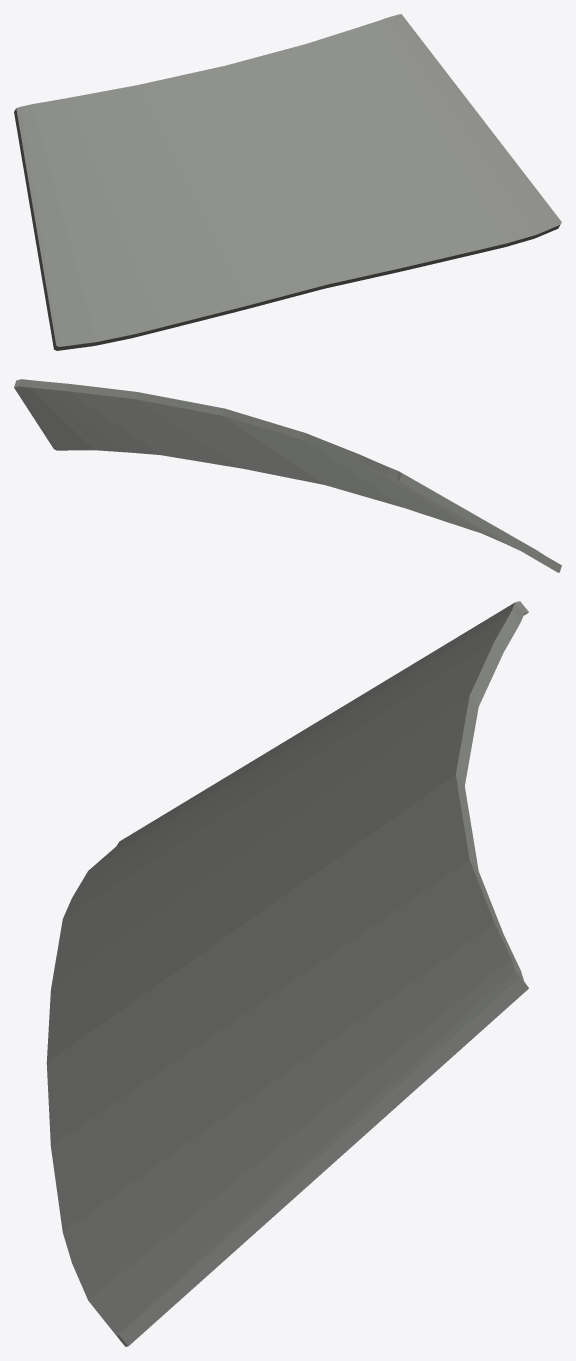
File: Par_Car_3.fbx
3 views of the same model, one above another, from view 1: azimuth 30°, elevation 25°; view 2: azimuth 150°, elevation 25°; view 3: azimuth 270°, elevation 25° (orthographic). The views are drawn at different scales.
Visible parts, largest first — view 1: Par_Car_3; view 2: Par_Car_3; view 3: Par_Car_3.
Boxes of the visible parts, bbox=[...] form: Par_Car_3: bbox=[14, 14, 561, 350]; Par_Car_3: bbox=[14, 379, 561, 572]; Par_Car_3: bbox=[46, 601, 528, 1346].
Size of the model in its own units: 98.09 by 30.32 by 40.52.
1 material, 1 textured.
